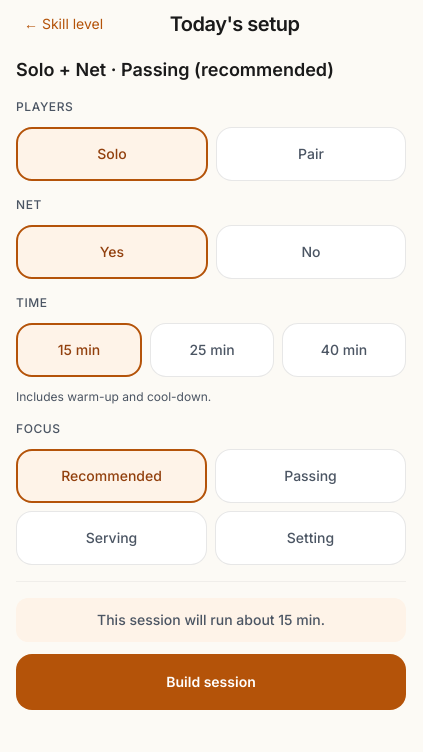
SetupScreen (C-3) › renders Wall only for Solo with no net
Expected: the element "wall or fence" is not shown
Click the radio button labelled "Solo" at (112, 154), box [16, 127, 208, 181]
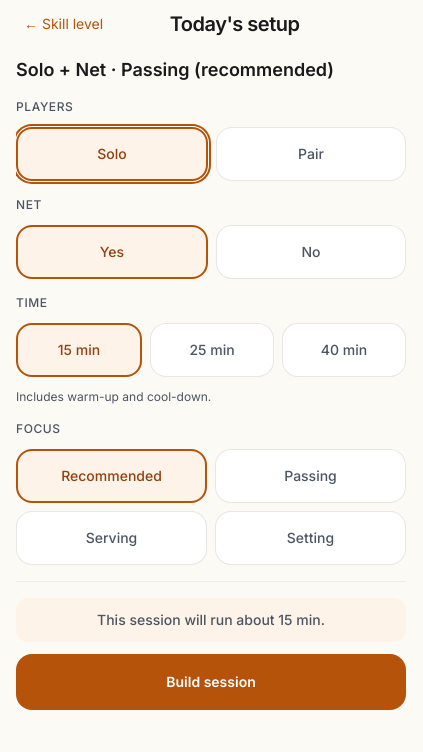
Click the radio button labelled "Yes" at (112, 252), box [16, 225, 208, 279]
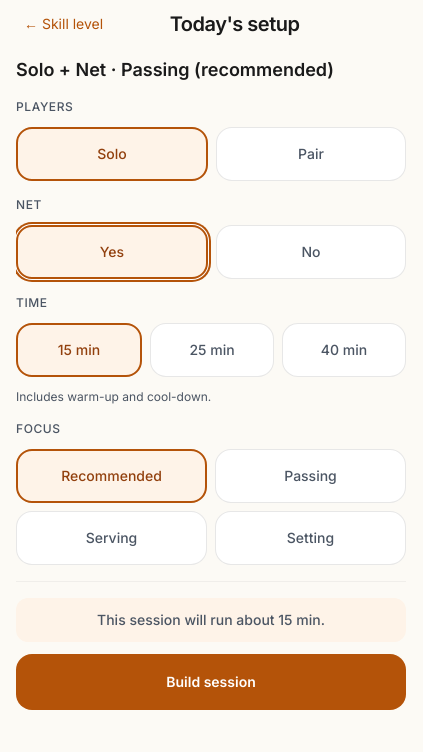
Expected: the element "wall or fence" is not shown
Click the radio button labelled "No" at (311, 252), box [216, 225, 406, 279]
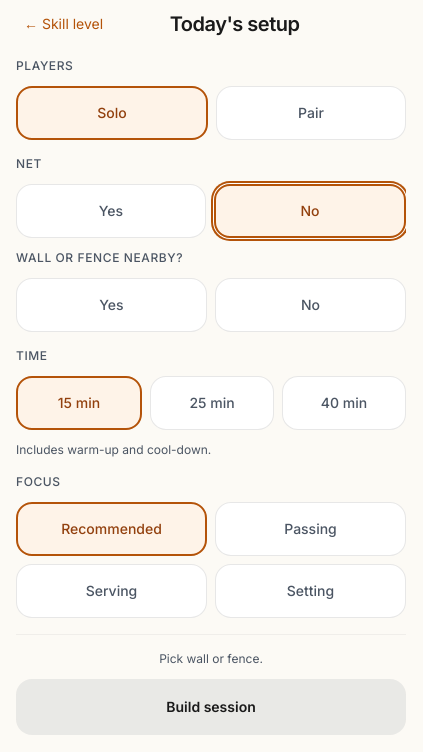
Now the element named "wall or fence nearby" is shown, box [16, 278, 406, 332]
Click the radio button labelled "Pair" at (311, 113), box [216, 86, 406, 140]
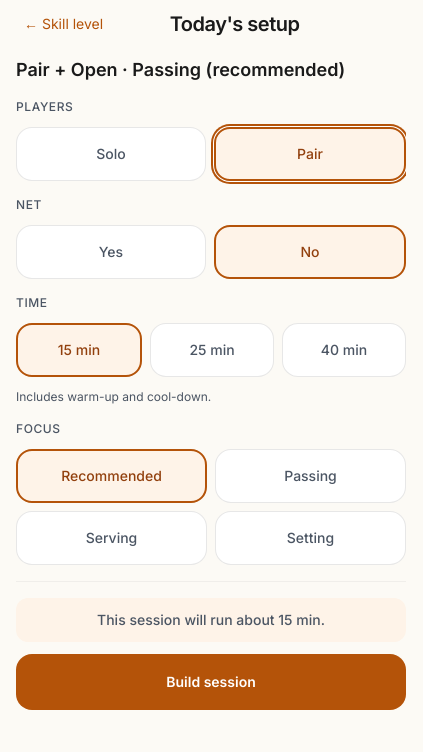
Now the heading "Wall or fence" is gone
